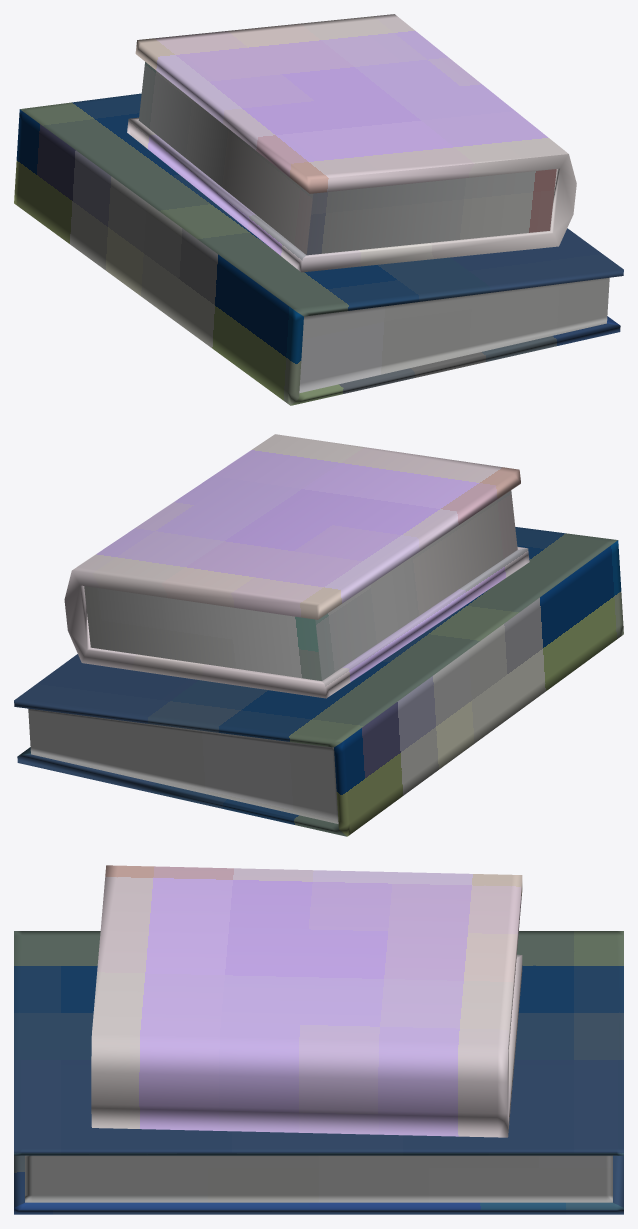
File: a_sch_entrance01_obj_book03.gltf
The picture shows the model from 3 angles, top to bottom: view 1: azimuth 30°, elevation 25°; view 2: azimuth 150°, elevation 25°; view 3: azimuth 270°, elevation 25°; orthographic projection. The views are drawn at different scales.
Parts seen in each view (by area): view 1: a_sch_entrance01_obj_book03_mesh_shape:a_sch_office01_shelfb; view 2: a_sch_entrance01_obj_book03_mesh_shape:a_sch_office01_shelfb; view 3: a_sch_entrance01_obj_book03_mesh_shape:a_sch_office01_shelfb.
Boxes of the visible parts, x1,y1,x2,y2 form: a_sch_entrance01_obj_book03_mesh_shape:a_sch_office01_shelfb: [14, 14, 623, 405]; a_sch_entrance01_obj_book03_mesh_shape:a_sch_office01_shelfb: [14, 434, 623, 836]; a_sch_entrance01_obj_book03_mesh_shape:a_sch_office01_shelfb: [14, 865, 623, 1214].
Bounding box in the file's own units: 0.2797 × 0.1485 × 0.3993.
Materials: 1 (1 with a texture image).
